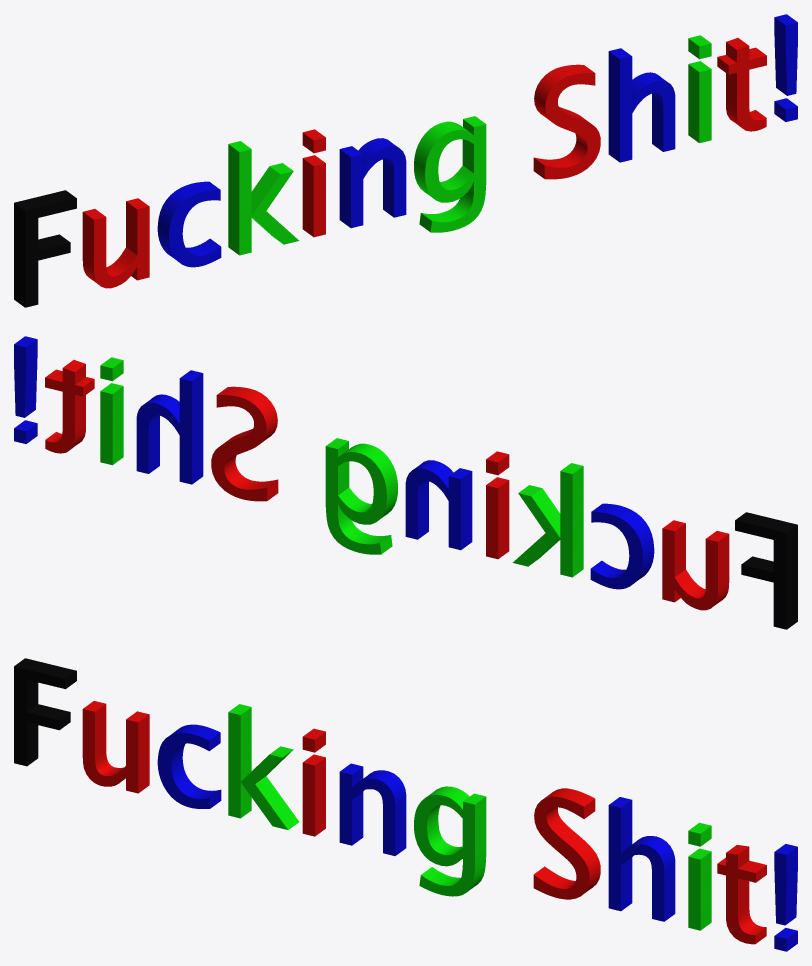
The picture shows the model from 3 angles, top to bottom: view 1: azimuth 30°, elevation 25°; view 2: azimuth 150°, elevation 25°; view 3: azimuth 330°, elevation 25°; orthographic projection.
Parts seen in each view (by area): view 1: Retopo_typeMesh1; view 2: Retopo_typeMesh1; view 3: Retopo_typeMesh1.
Part boxes in pixels (box(x1,y1,x2,y2)): Retopo_typeMesh1: box(14, 14, 797, 307); Retopo_typeMesh1: box(14, 336, 797, 629); Retopo_typeMesh1: box(14, 658, 797, 951).
Bounding box in the file's own units: 99.72 × 16.12 × 2.5.
